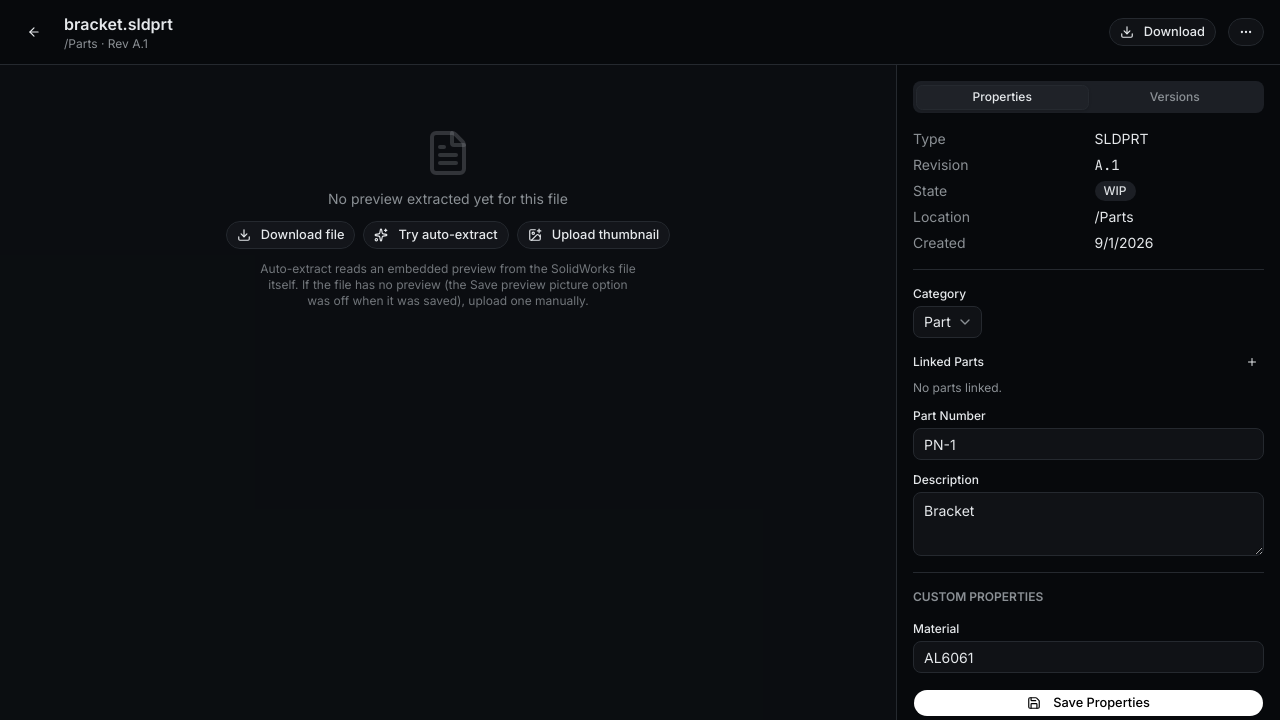
Test: FileDetailPanel — a refresh does not wipe unsaved property edits › keeps a half-typed description when the file changes elsewhere — the reported bug
expect the field labelled "Part Number" holds "PN-1": met, box [913, 428, 1264, 460]
Replace the text in the text box labelled "Description" with "Bracket, half-typ". click: (1088, 524)
box: [913, 492, 1264, 556]
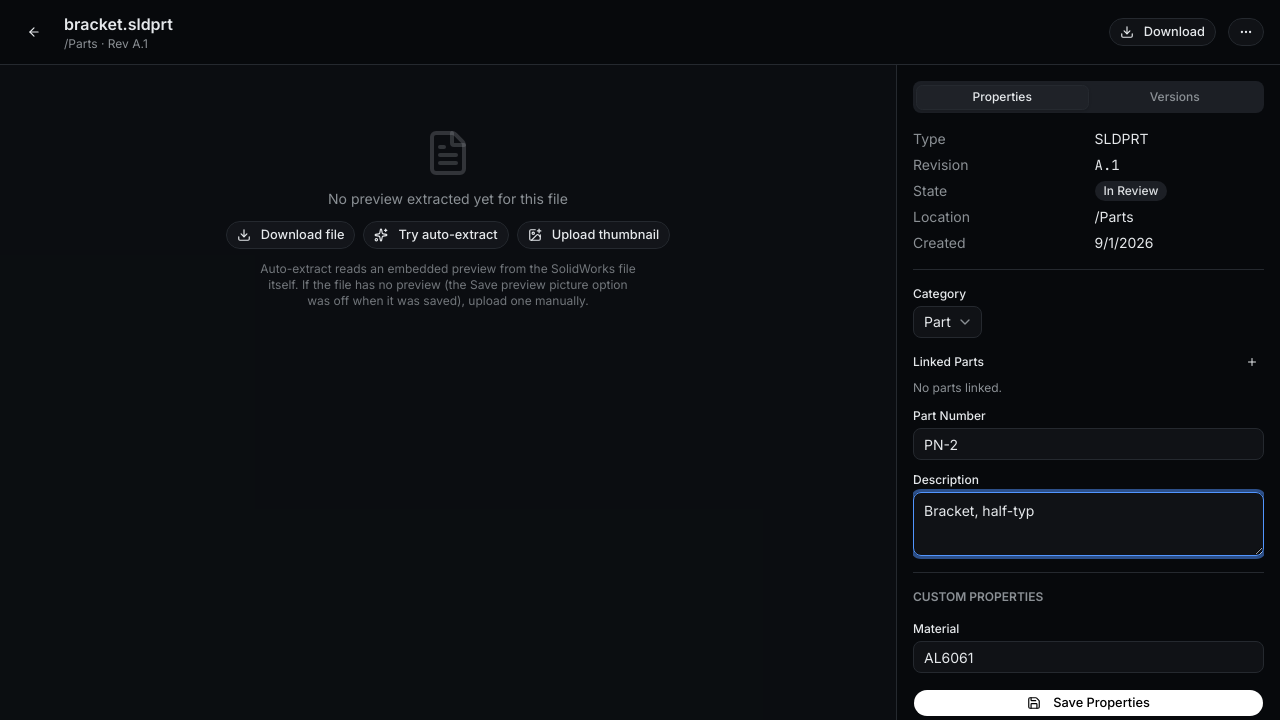
expect the field labelled "Part Number" holds "PN-2": met, box [913, 428, 1264, 460]
